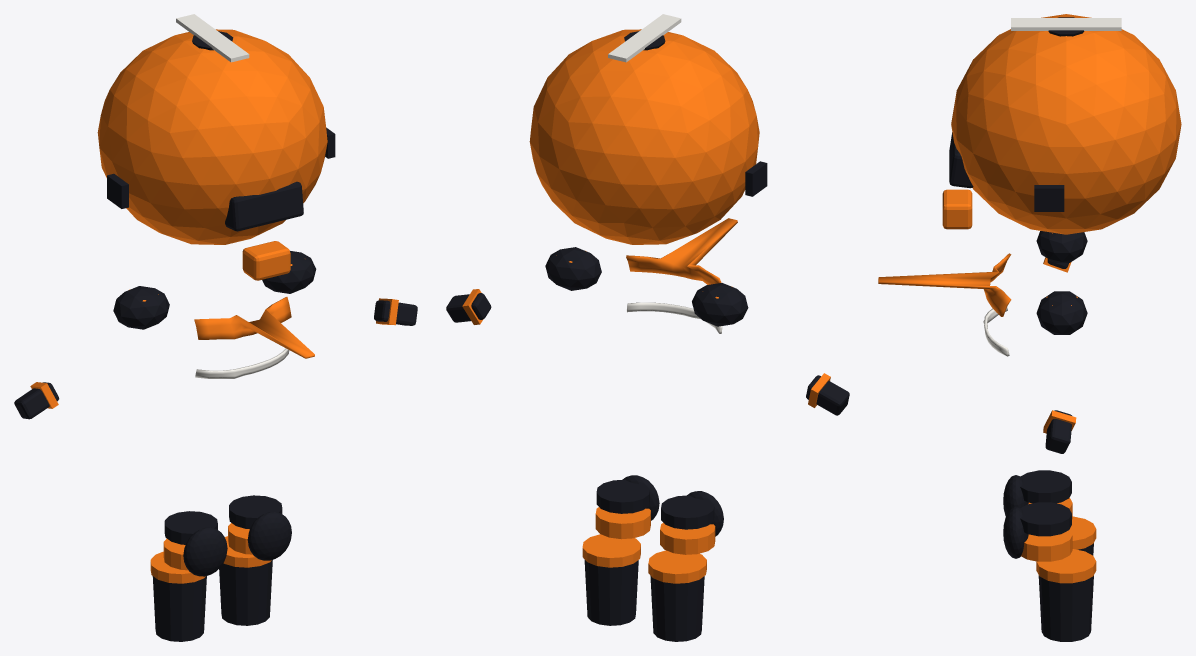
The model's file is Outfit_Motor.fbx.
3 views of the same model, side by side, from view 1: azimuth 30°, elevation 25°; view 2: azimuth 150°, elevation 25°; view 3: azimuth 270°, elevation 25° (orthographic).
Parts seen in each view (by area): view 1: FullHelmet__Head, BootR__shin.R.001, BootL__shin.L.001, KneePadR__shin.R.004, KneePadL__shin.L.004, JacketStripeA__spine.002, ShoulderR__upper_arm.R, ShoulderL__upper_arm.L, GloveR__hand.R.005, GloveL__hand.L.005, JacketStripeB__spine.002; view 2: FullHelmet__Head, BootR__shin.R.001, BootL__shin.L.001, KneePadL__shin.L.004, KneePadR__shin.R.004, JacketStripeA__spine.002, ShoulderL__upper_arm.L, ShoulderR__upper_arm.R, GloveR__hand.R.005, GloveL__hand.L.005, JacketStripeB__spine.002; view 3: FullHelmet__Head, BootL__shin.L.001, KneePadL__shin.L.004, KneePadR__shin.R.004, JacketStripeA__spine.002, ShoulderL__upper_arm.L, ShoulderR__upper_arm.R, GloveL__hand.L.005, BootR__shin.R.001.
Boxes of the visible parts, <box> form: FullHelmet__Head: <box>97,14,335,280</box>; BootR__shin.R.001: <box>150,551,206,641</box>; BootL__shin.L.001: <box>219,536,272,625</box>; KneePadR__shin.R.004: <box>163,511,227,576</box>; KneePadL__shin.L.004: <box>228,495,291,560</box>; JacketStripeA__spine.002: <box>194,297,314,358</box>; ShoulderR__upper_arm.R: <box>113,286,169,329</box>; ShoulderL__upper_arm.L: <box>262,251,316,293</box>; GloveR__hand.R.005: <box>14,382,59,419</box>; GloveL__hand.L.005: <box>374,298,417,325</box>; JacketStripeB__spine.002: <box>195,348,289,378</box>; FullHelmet__Head: <box>529,14,767,244</box>; BootR__shin.R.001: <box>648,550,706,641</box>; BootL__shin.L.001: <box>582,534,640,625</box>; KneePadL__shin.L.004: <box>595,475,659,539</box>; KneePadR__shin.R.004: <box>660,491,723,554</box>; JacketStripeA__spine.002: <box>626,218,737,284</box>; ShoulderL__upper_arm.L: <box>545,247,601,290</box>; ShoulderR__upper_arm.R: <box>692,283,748,326</box>; GloveR__hand.R.005: <box>806,373,849,415</box>; GloveL__hand.L.005: <box>446,289,491,324</box>; JacketStripeB__spine.002: <box>626,302,722,333</box>; FullHelmet__Head: <box>942,14,1181,234</box>; BootL__shin.L.001: <box>1036,549,1096,641</box>; KneePadL__shin.L.004: <box>1003,502,1072,561</box>; KneePadR__shin.R.004: <box>1003,470,1072,519</box>; JacketStripeA__spine.002: <box>878,253,1011,316</box>; ShoulderL__upper_arm.L: <box>1036,291,1087,334</box>; ShoulderR__upper_arm.R: <box>1036,231,1087,262</box>; GloveL__hand.L.005: <box>1043,410,1076,453</box>; BootR__shin.R.001: <box>1069,516,1096,555</box>.
Size of the model in its own units: 1.08 by 1.53 by 0.7104.
